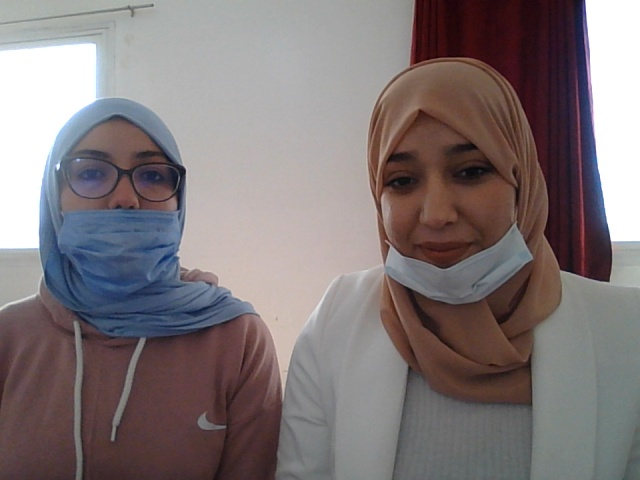mask_weared_incorrect: (341, 72, 552, 311), (44, 97, 197, 301)
